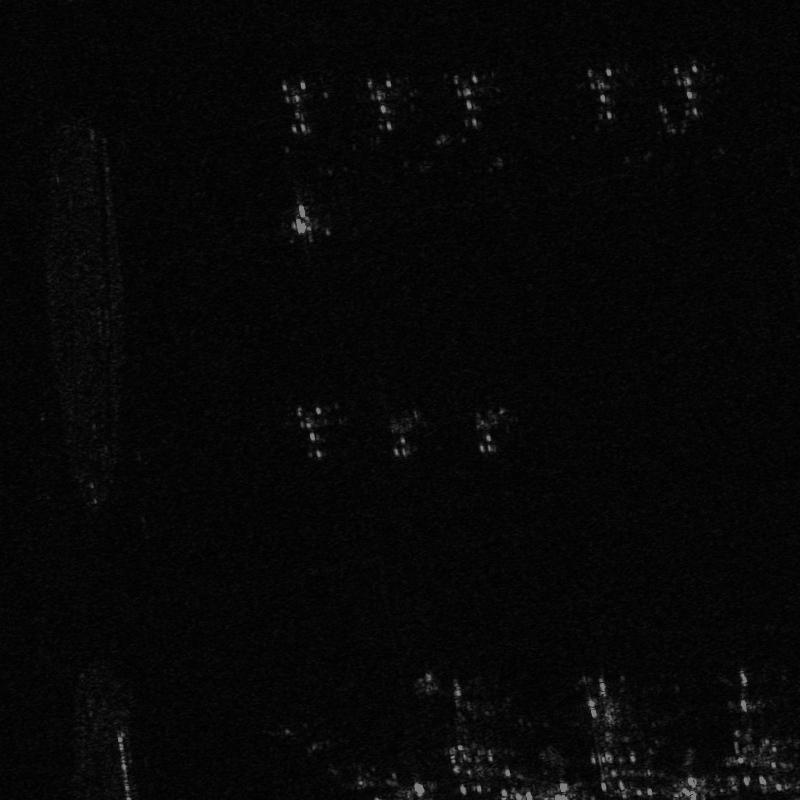A220: (572, 667, 638, 747), (375, 400, 426, 461)
A320/321: (461, 400, 515, 458)
ARJ21: (276, 396, 345, 464), (273, 192, 327, 248)
Boeing787: (712, 664, 779, 737)
other: (652, 55, 722, 125), (438, 63, 500, 139), (424, 668, 490, 738), (269, 72, 329, 139), (357, 65, 408, 139), (575, 59, 624, 129)
